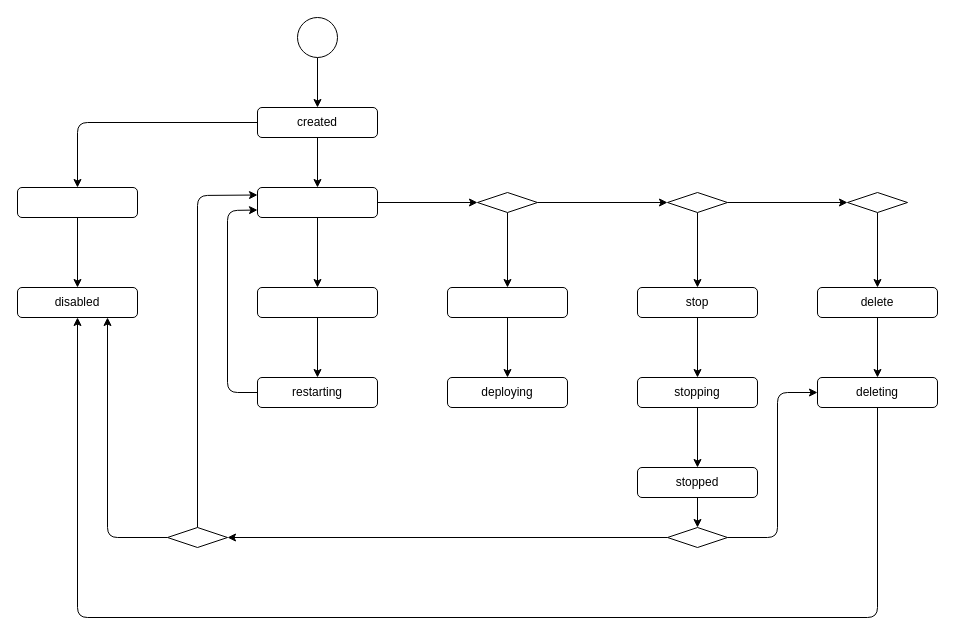
This 955x643 diagram has some shape labels left out. Each missing label, with the centre of its shape:
"deploy" goes at point 507,302.
"disable" goes at point 77,202.
"restart" goes at point 317,302.
"running" goes at point 317,202.
